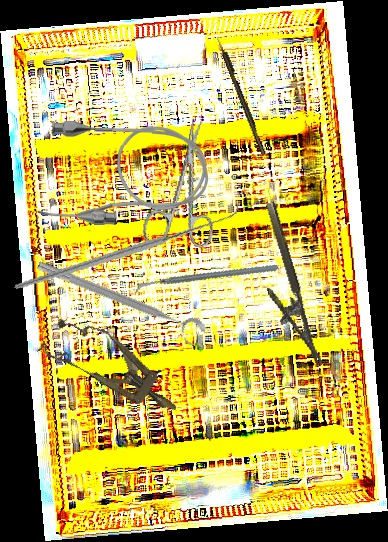Cannula: (38, 120, 209, 227)
Chopper: (132, 228, 280, 330)
Fixation Ring: (31, 256, 208, 350)
Hook Surgical: (14, 161, 239, 331), (215, 35, 267, 156)
Iris Scissors: (140, 112, 234, 256)
Needle Holder: (244, 200, 323, 374)
Speculum: (36, 304, 191, 433)
